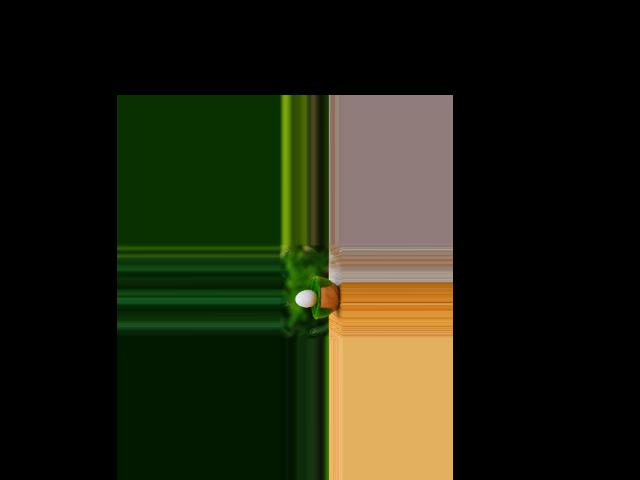egg: (295, 289, 318, 307)
